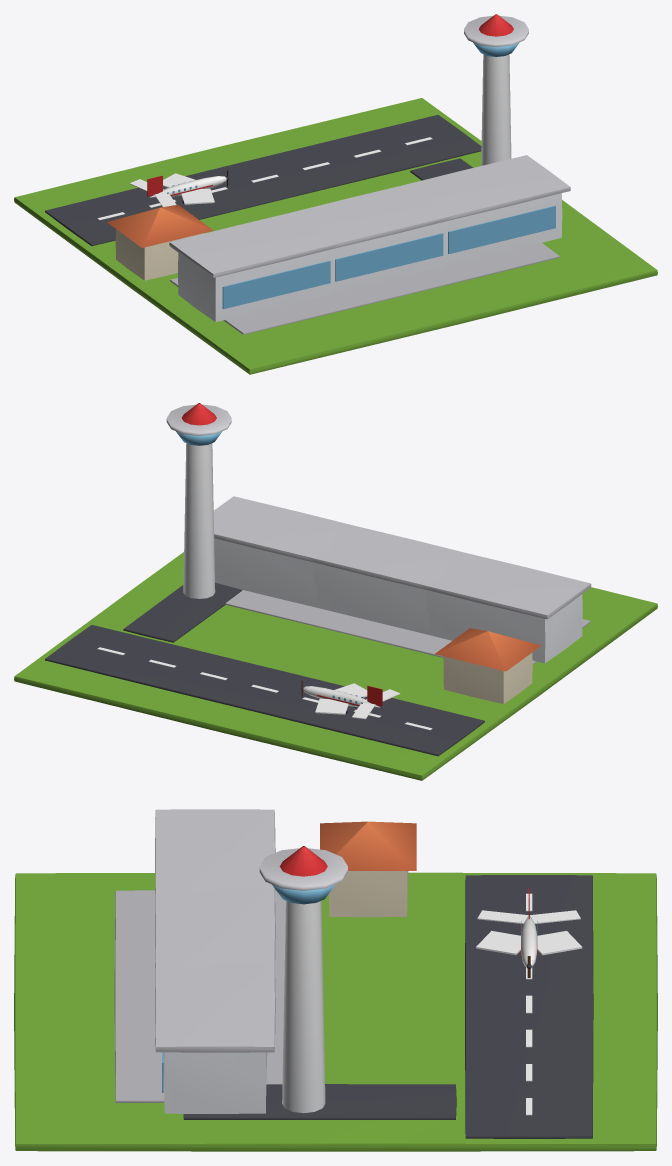
The model's file is Airport_L3.obj.
The picture shows the model from 3 angles, top to bottom: view 1: azimuth 30°, elevation 25°; view 2: azimuth 150°, elevation 25°; view 3: azimuth 270°, elevation 25°; orthographic projection. The views are drawn at different scales.
Visible parts, largest first — view 1: Airport_L3; view 2: Airport_L3; view 3: Airport_L3.
Part boxes in pixels (x1,y1,x2,y2): Airport_L3: [14, 14, 657, 374]; Airport_L3: [14, 403, 657, 780]; Airport_L3: [14, 809, 657, 1151].
Size of the model in its own units: 8 by 3.69 by 8.
1 material, 1 textured.
